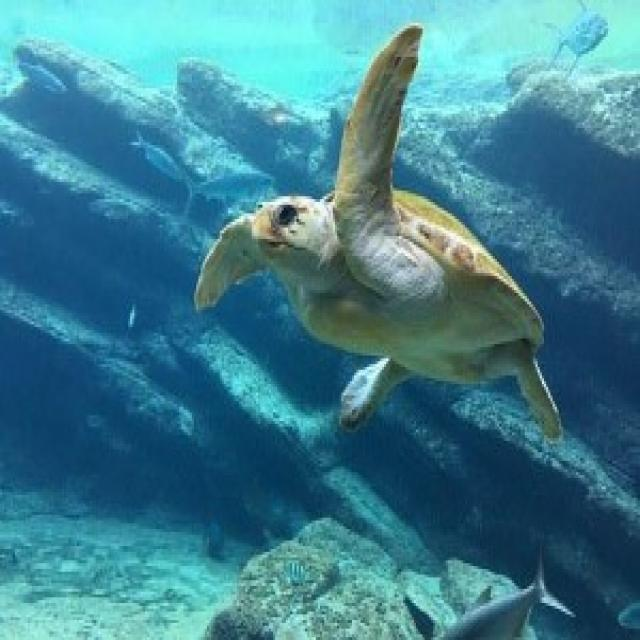Sea turtle: (150, 24, 572, 490)
